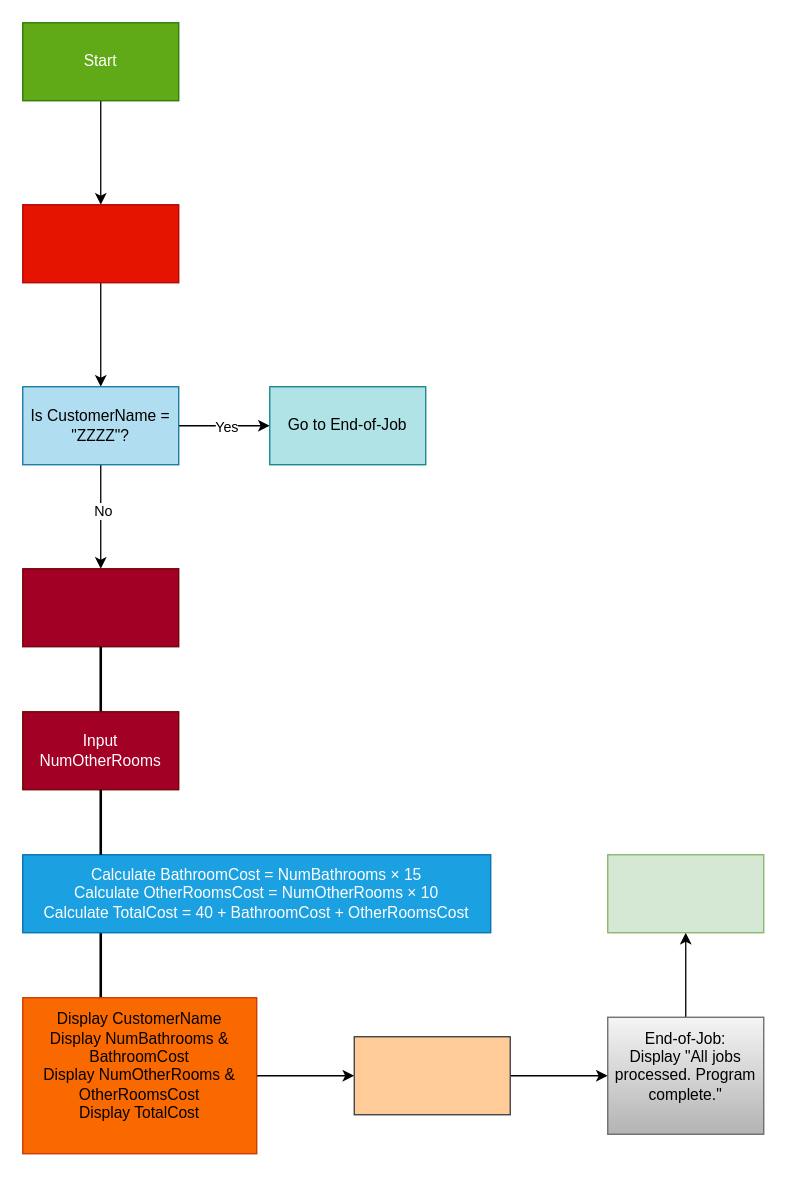
Some shapes in this 787 by 1183 pixel diagram are drawn without their labels. The shapes that lost their labels are listed below. From the top down, each one's centre as x and y in pixels, then its label:
the point at 100,243: Declare variables and constants
the point at 100,607: Input NumBathrooms
the point at 685,893: End
the point at 431,1075: Go back to Input CustomerName
